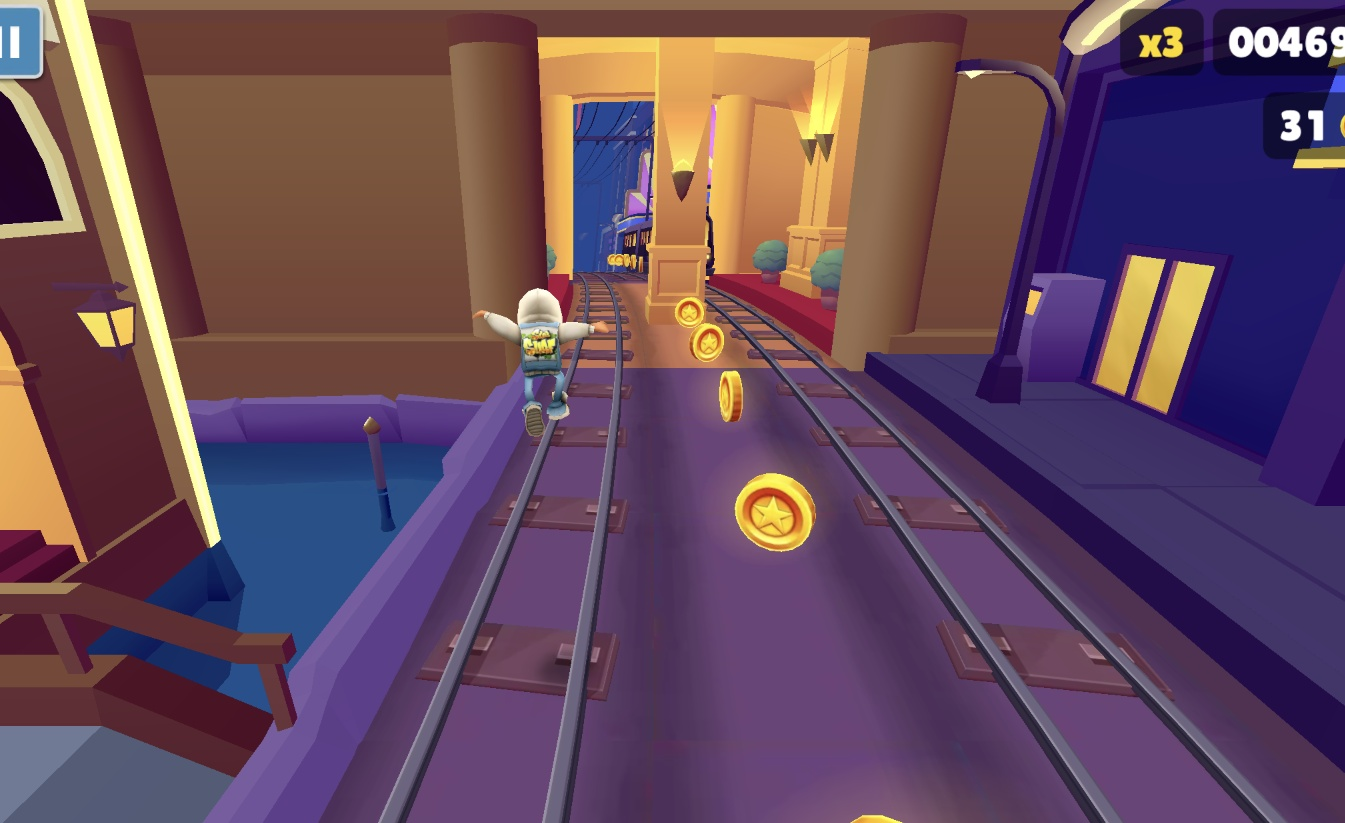pillar: (649, 39, 712, 314)
train: (606, 215, 650, 275)
